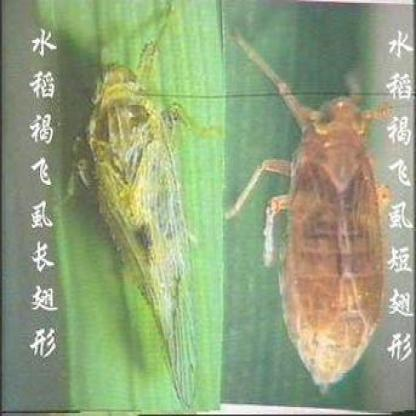brown-planthopper: (72, 60, 203, 408), (260, 55, 384, 393)
